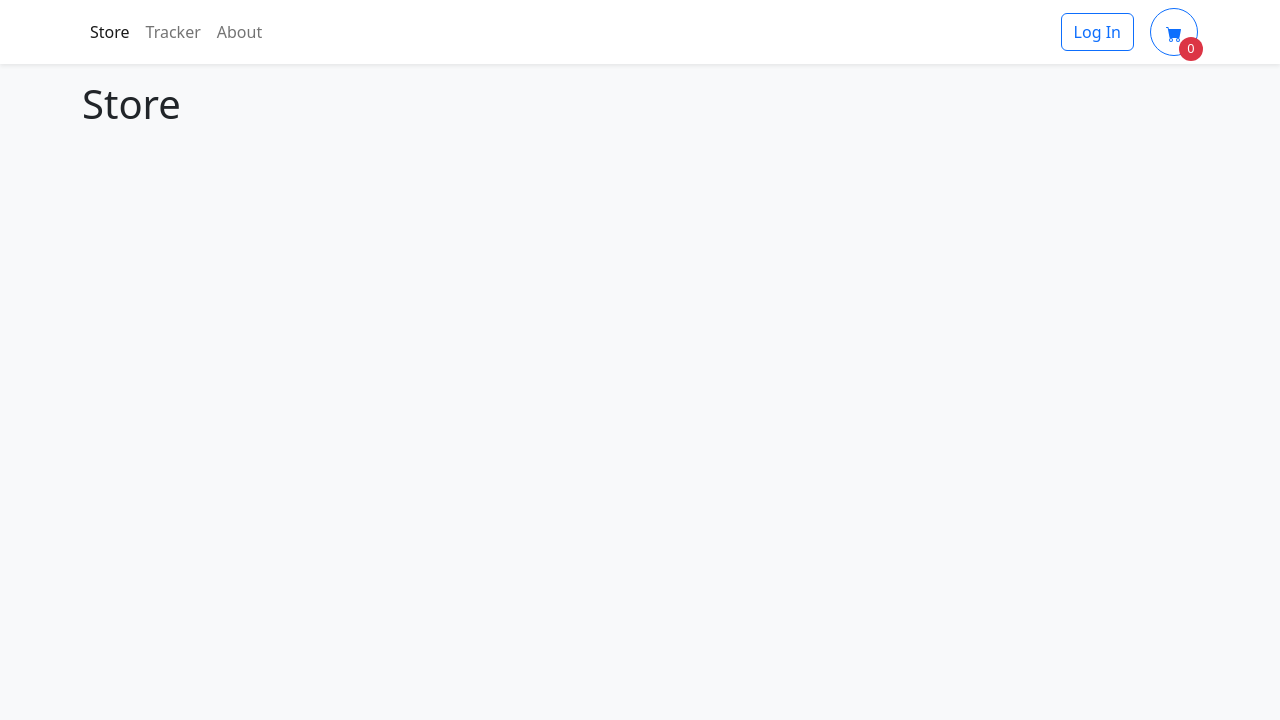
Test: Shopping Cart › show 'Close' button in the shopping cart
This screenshot has width=1280, height=720.
Click the button with test id "shopping-cart-btn" at (1174, 32), box [1150,8,1198,56]
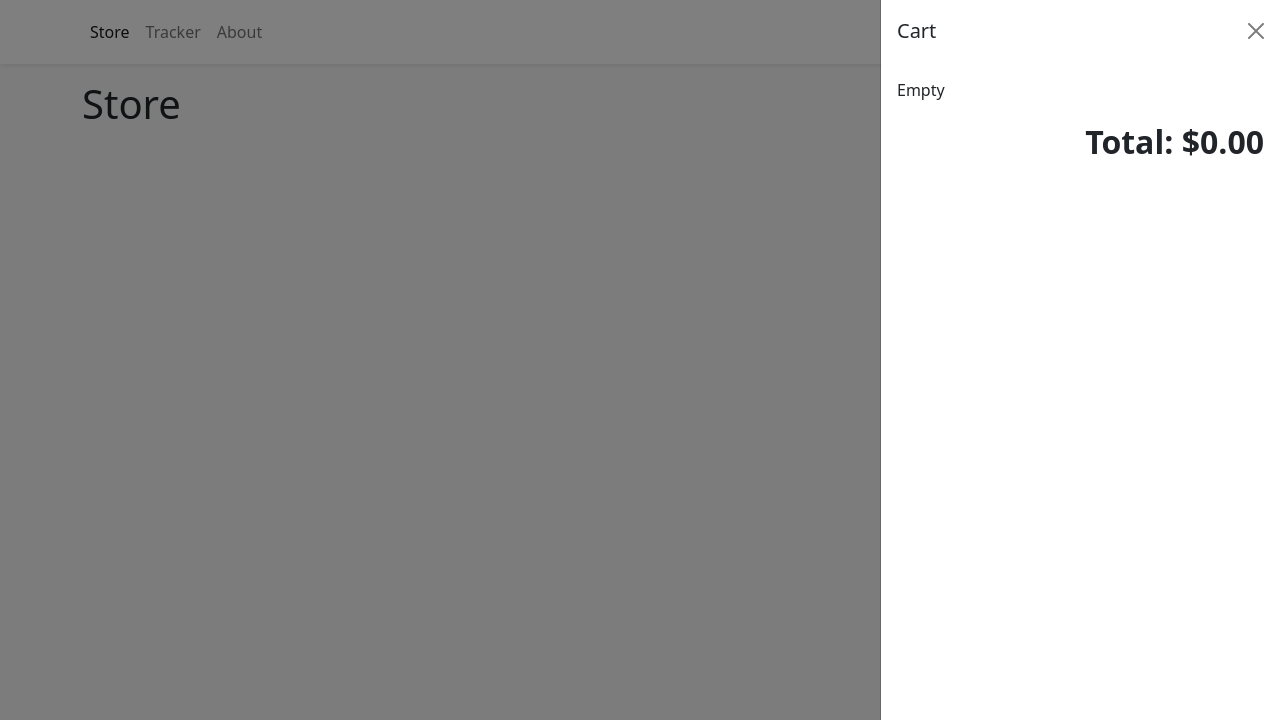
Result: the button named "Close" is shown at [1240,15,1272,47]
